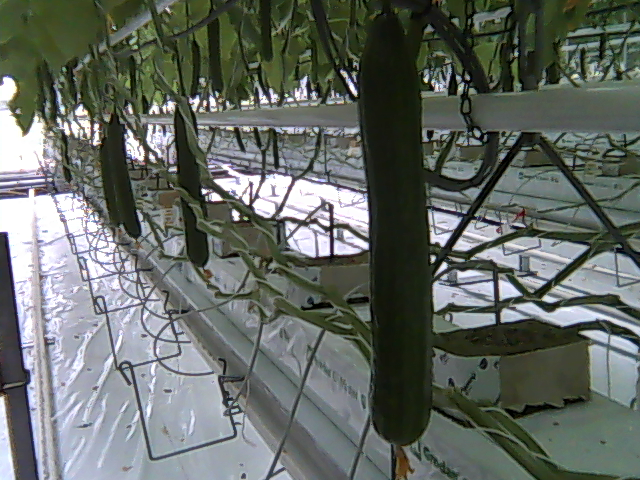concombre: (353, 1, 432, 480)
